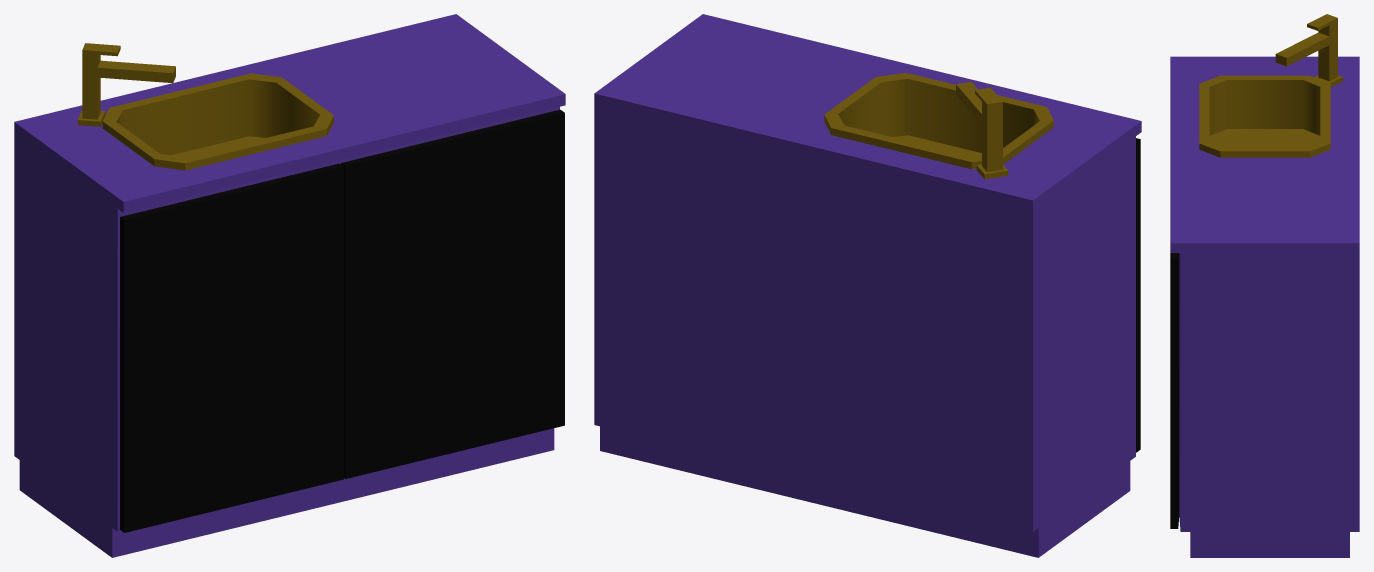
Rendered from kitchen1.fbx.
The picture shows the model from 3 angles, left to right: view 1: azimuth 30°, elevation 25°; view 2: azimuth 150°, elevation 25°; view 3: azimuth 270°, elevation 25°; orthographic projection. The views are drawn at different scales.
Visible parts, largest first — view 1: kitchen1; view 2: kitchen1; view 3: kitchen1.
Part boxes in pixels (x1=…): kitchen1: x1=14, y1=14, x2=565, y2=557; kitchen1: x1=594, y1=14, x2=1141, y2=557; kitchen1: x1=1170, y1=14, x2=1359, y2=557.
Size of the model in its own units: 105 by 99.56 by 45.11.
